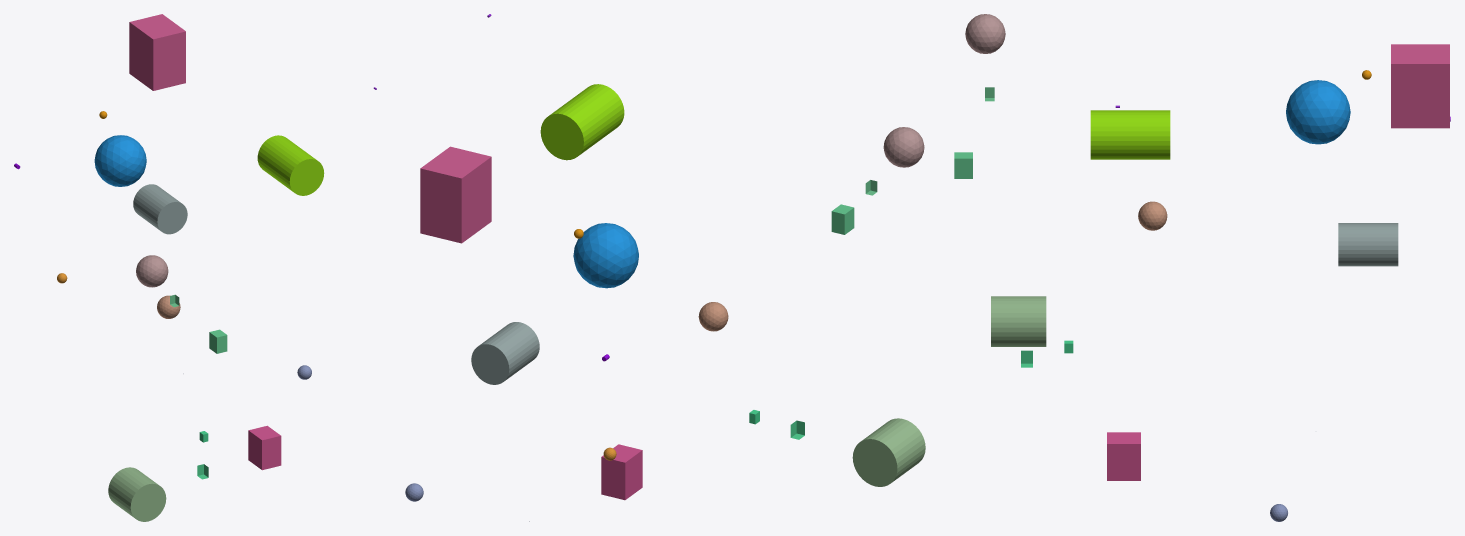
Rendered from basic_shapes_trimesh.glb.
The picture shows the model from 3 angles, left to right: view 1: azimuth 30°, elevation 25°; view 2: azimuth 150°, elevation 25°; view 3: azimuth 270°, elevation 25°; orthographic projection. The views are drawn at different scales.
Visible parts, largest first — view 1: world; view 2: world; view 3: world.
Part boxes in pixels (x1=…): world: x1=14, y1=14, x2=376, y2=521; world: x1=405, y1=14, x2=925, y2=521; world: x1=954, y1=14, x2=1450, y2=521.
Bounding box in the file's own units: 3.2 × 3.61 × 3.73.
